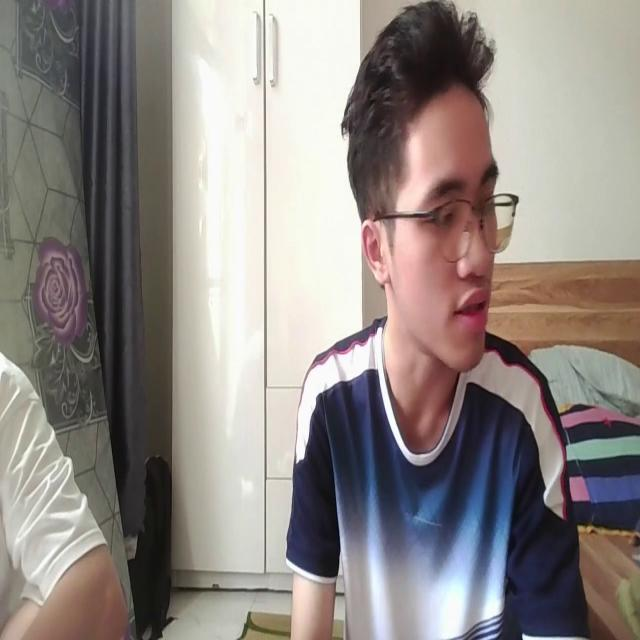extra_person: (1, 348, 129, 640)
student: (283, 0, 587, 640)
